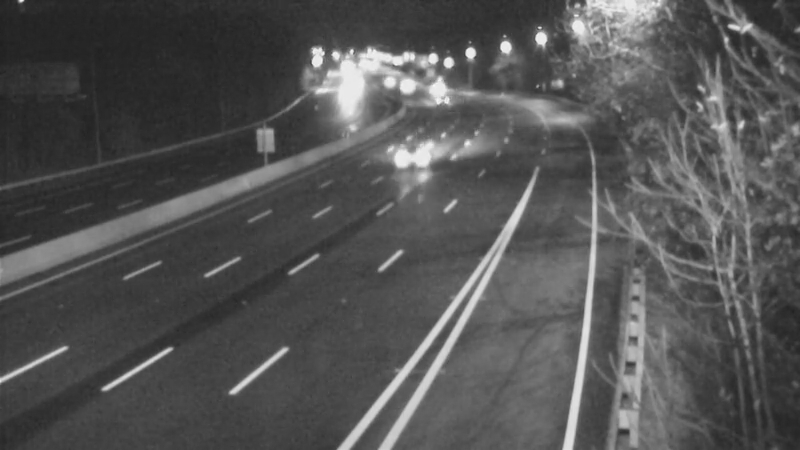vehicle: (382, 114, 462, 194), (359, 56, 409, 106), (379, 63, 429, 113), (408, 63, 458, 113), (420, 74, 470, 124), (317, 71, 367, 121)
